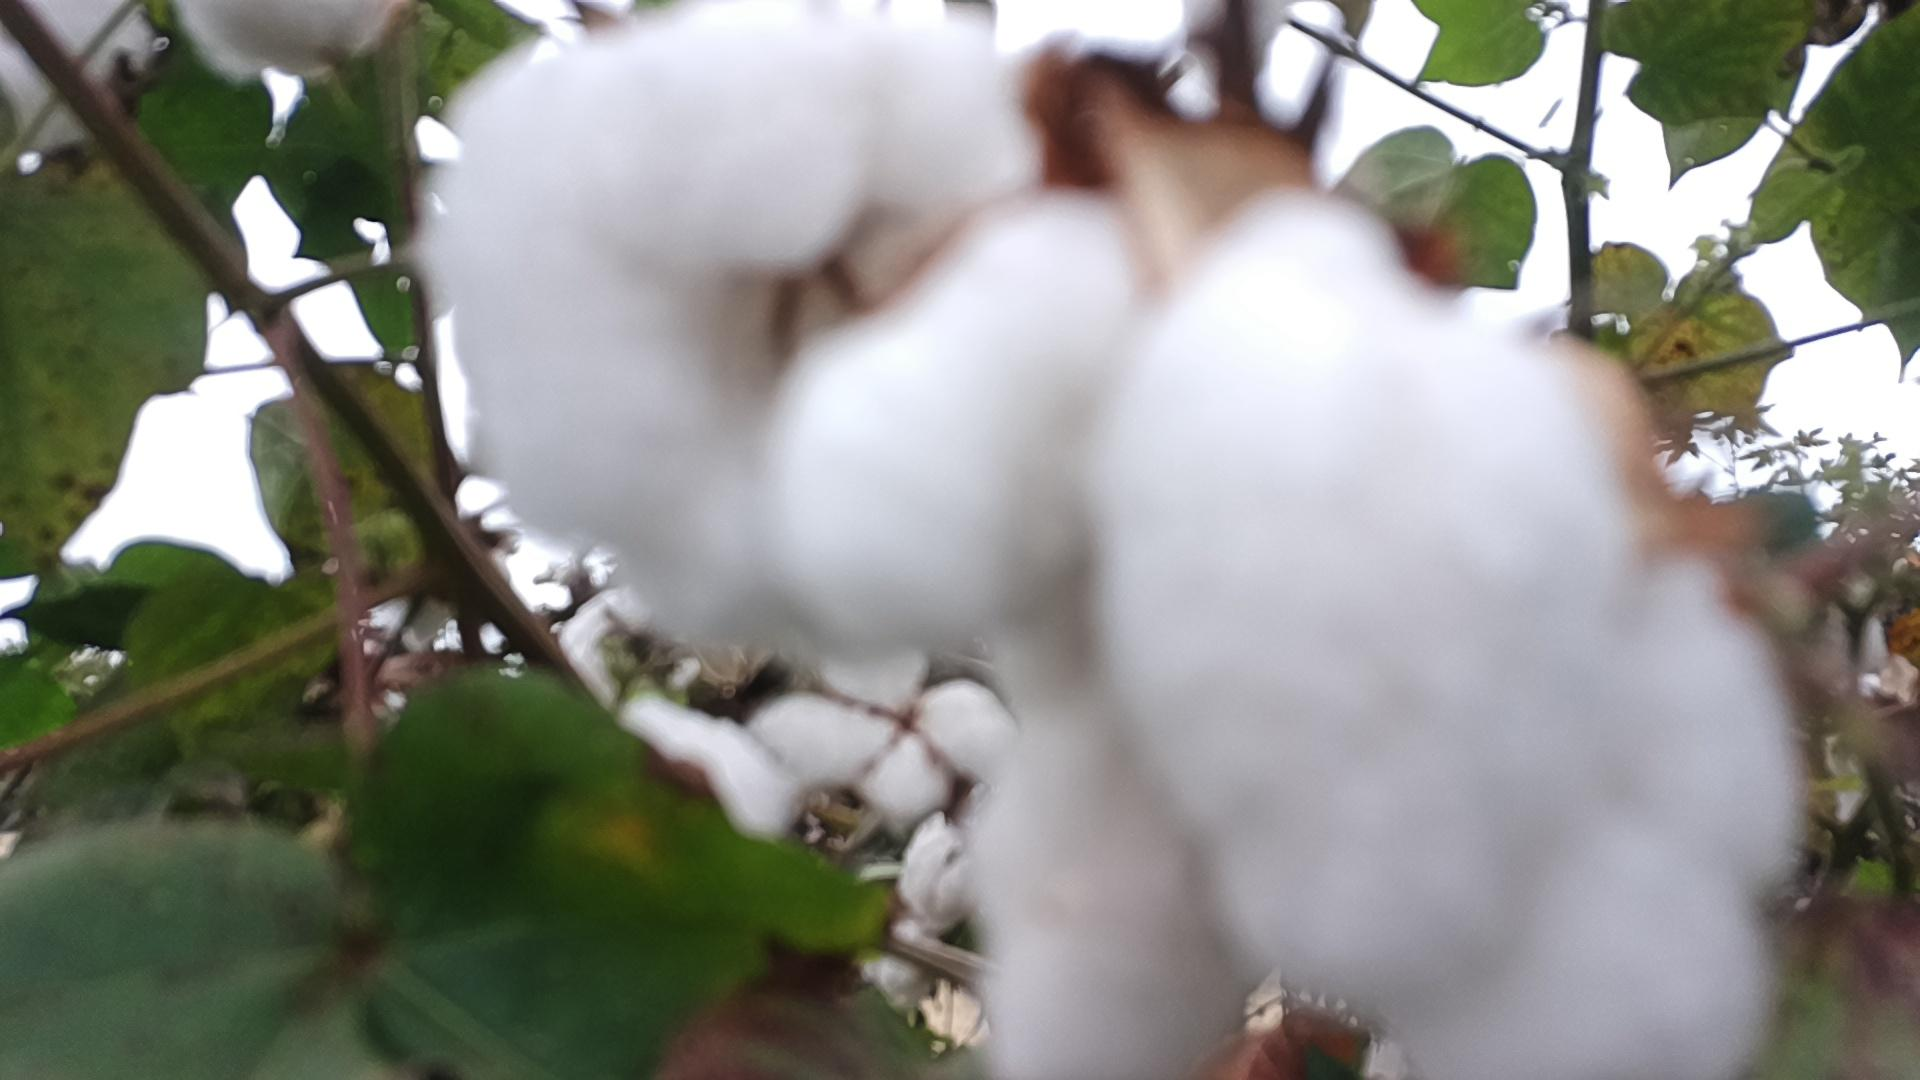cotton_ready: (1093, 190, 1803, 1080), (411, 0, 1149, 661), (976, 566, 1230, 1080), (756, 646, 1015, 820), (0, 0, 161, 148), (628, 698, 790, 841), (568, 585, 702, 721), (175, 0, 404, 75), (1809, 571, 1894, 683), (903, 815, 981, 935)
